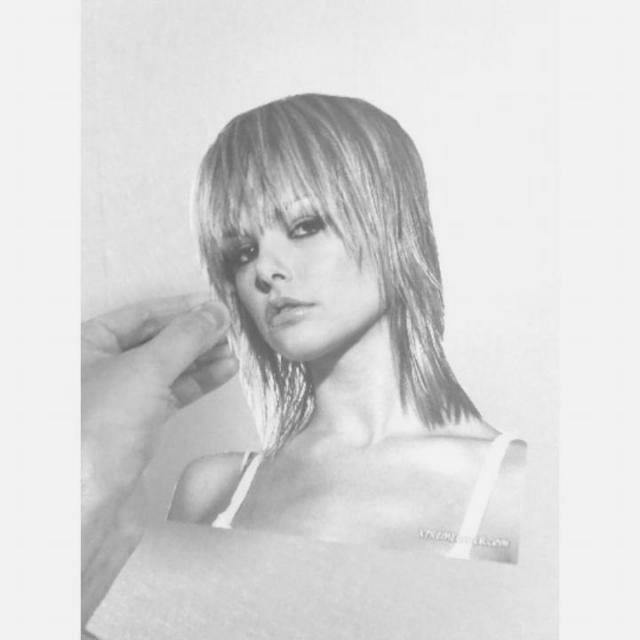fake: (156, 95, 530, 575)
